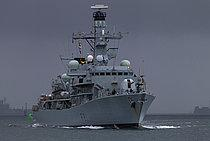MIL_Ship: (30, 3, 155, 128)
